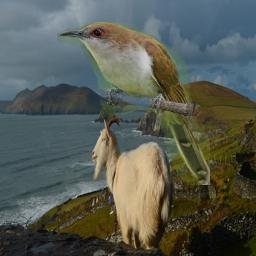Cuckoo: (57, 22, 210, 185)
